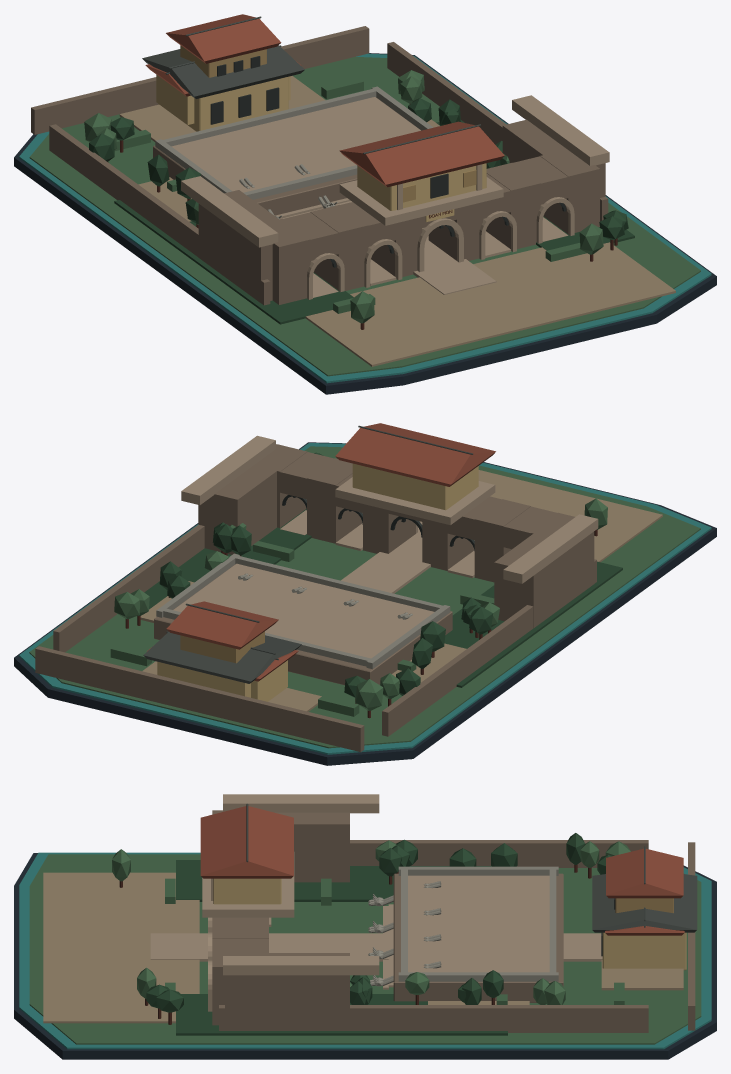
The model's file is mysterios7.glb.
The picture shows the model from 3 angles, top to bottom: view 1: azimuth 30°, elevation 25°; view 2: azimuth 150°, elevation 25°; view 3: azimuth 270°, elevation 25°; orthographic projection. The views are drawn at different scales.
Parts seen in each view (by area): view 1: BASE, DOAN_MON_WALLS, COURTYARD, KINH_THIEN_FOUNDATION, HISTORIC_WALL_SEGMENTS, HAU_LAU, DOAN_MON_GATEHOUSE, LANDSCAPING, DOAN_MON_GATE_ARCHES, DRAGON_STEPS; view 2: BASE, DOAN_MON_WALLS, KINH_THIEN_FOUNDATION, HISTORIC_WALL_SEGMENTS, COURTYARD, DOAN_MON_GATEHOUSE, HAU_LAU, LANDSCAPING; view 3: BASE, COURTYARD, KINH_THIEN_FOUNDATION, DOAN_MON_WALLS, HISTORIC_WALL_SEGMENTS, HAU_LAU, DOAN_MON_GATEHOUSE, LANDSCAPING, DRAGON_STEPS, DOAN_MON_GATE_ARCHES.
Part boxes in pixels (x1,y1,x2,y2): BASE: (14, 53, 716, 394); DOAN_MON_WALLS: (181, 95, 609, 304); COURTYARD: (114, 76, 675, 366); KINH_THIEN_FOUNDATION: (153, 86, 433, 215); HISTORIC_WALL_SEGMENTS: (31, 26, 608, 305); HAU_LAU: (142, 14, 304, 131); DOAN_MON_GATEHOUSE: (339, 121, 504, 225); LANDSCAPING: (84, 70, 628, 329); DOAN_MON_GATE_ARCHES: (307, 197, 574, 299); DRAGON_STEPS: (239, 164, 350, 219); BASE: (14, 442, 716, 765); DOAN_MON_WALLS: (181, 435, 598, 628); KINH_THIEN_FOUNDATION: (154, 553, 452, 685); HISTORIC_WALL_SEGMENTS: (35, 524, 596, 752); COURTYARD: (140, 470, 662, 711); DOAN_MON_GATEHOUSE: (335, 423, 495, 525); HAU_LAU: (143, 601, 301, 701); LANDSCAPING: (110, 452, 607, 718); BASE: (14, 852, 716, 1059); COURTYARD: (43, 860, 683, 1035); KINH_THIEN_FOUNDATION: (393, 866, 563, 1002); DOAN_MON_WALLS: (212, 794, 379, 1030); HISTORIC_WALL_SEGMENTS: (219, 840, 695, 1032); HAU_LAU: (592, 846, 697, 970); DOAN_MON_GATEHOUSE: (200, 803, 294, 917); LANDSCAPING: (112, 833, 630, 1024); DRAGON_STEPS: (368, 881, 441, 989); DOAN_MON_GATE_ARCHES: (208, 917, 212, 1011).
Size of the model in its own units: 24 by 7.27 by 36.
